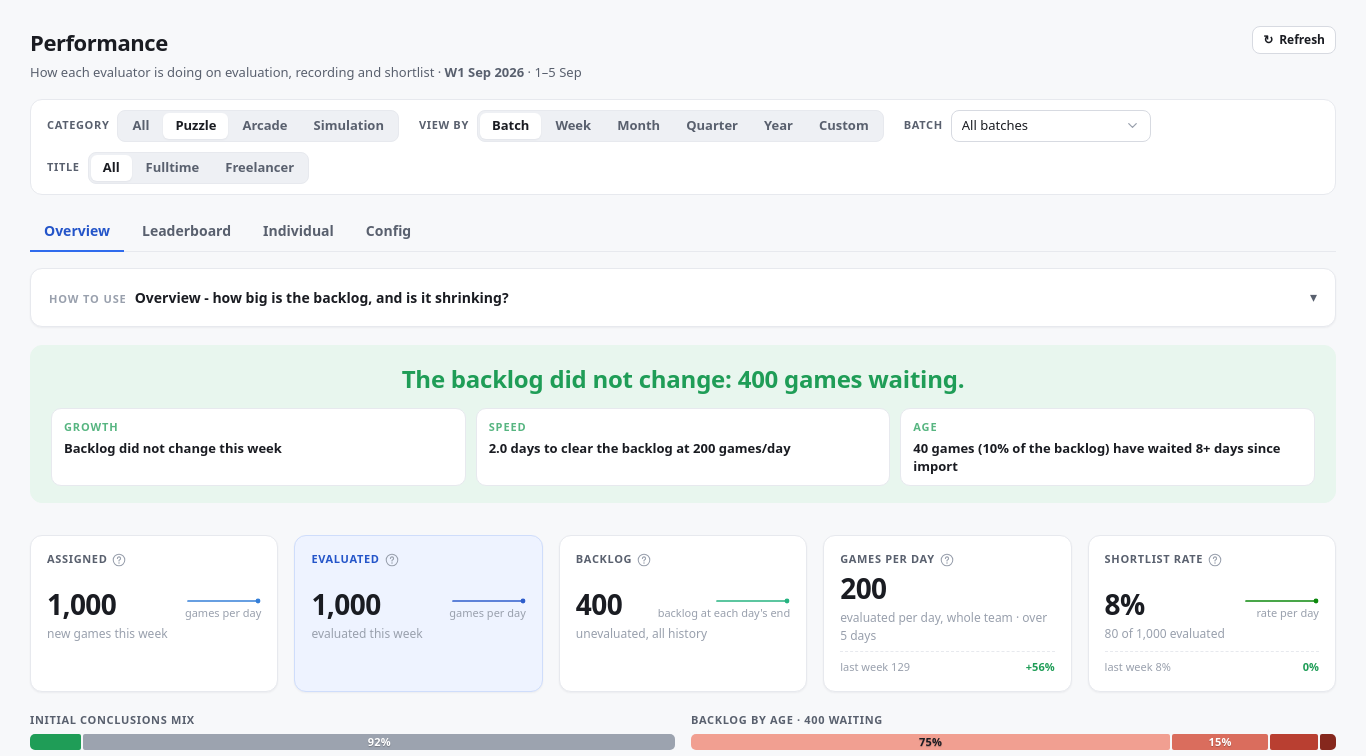
Scenario: Overview tab › starts with the guide closed and opens it on demand
The image size is (1366, 756).
Click the button that starts with "How to use": (88, 298) [49,286,1317,308]
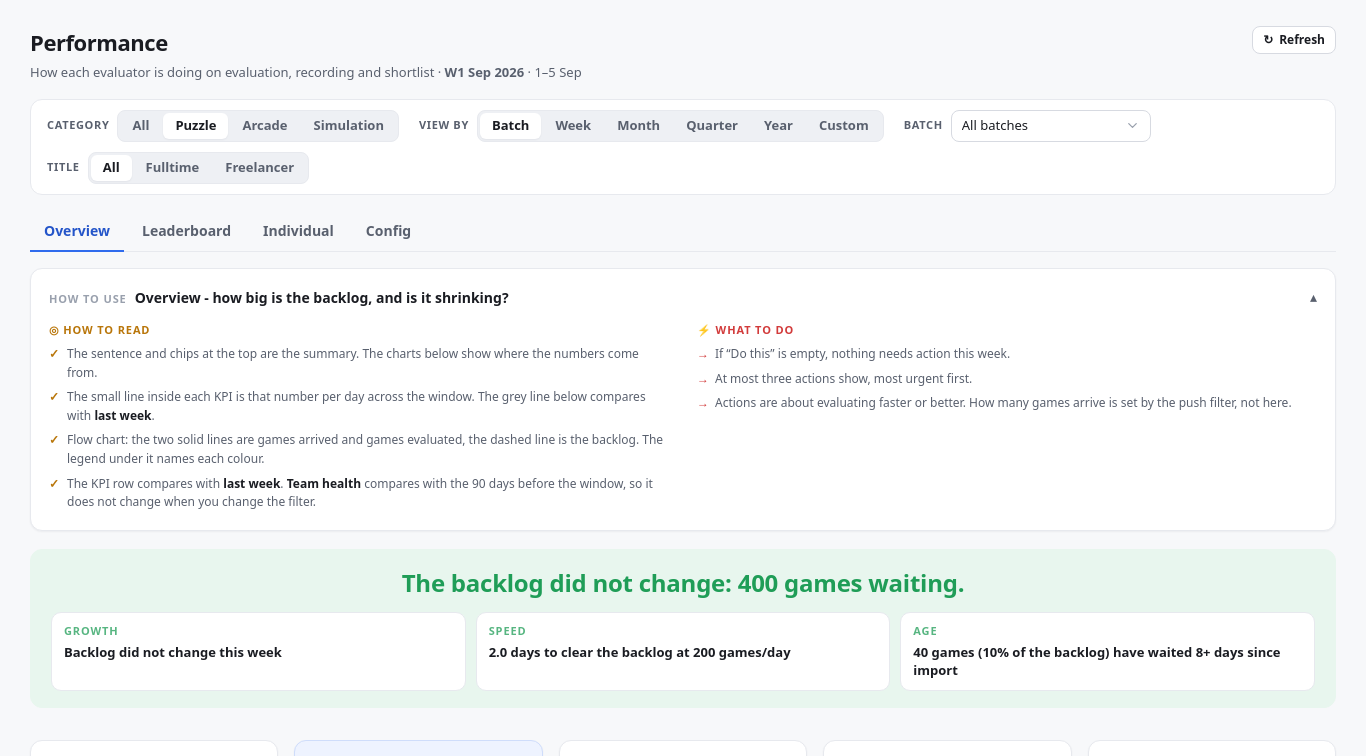
Expected: the button that starts with "How to use" is expanded, [49,286,1317,308]
Expected: the element with class "read" that starts with "◎ How to read" is shown, [49,318,669,512]
Expected: the element with class "act" that starts with "⚡ What to do" is shown, [697,322,1292,411]
